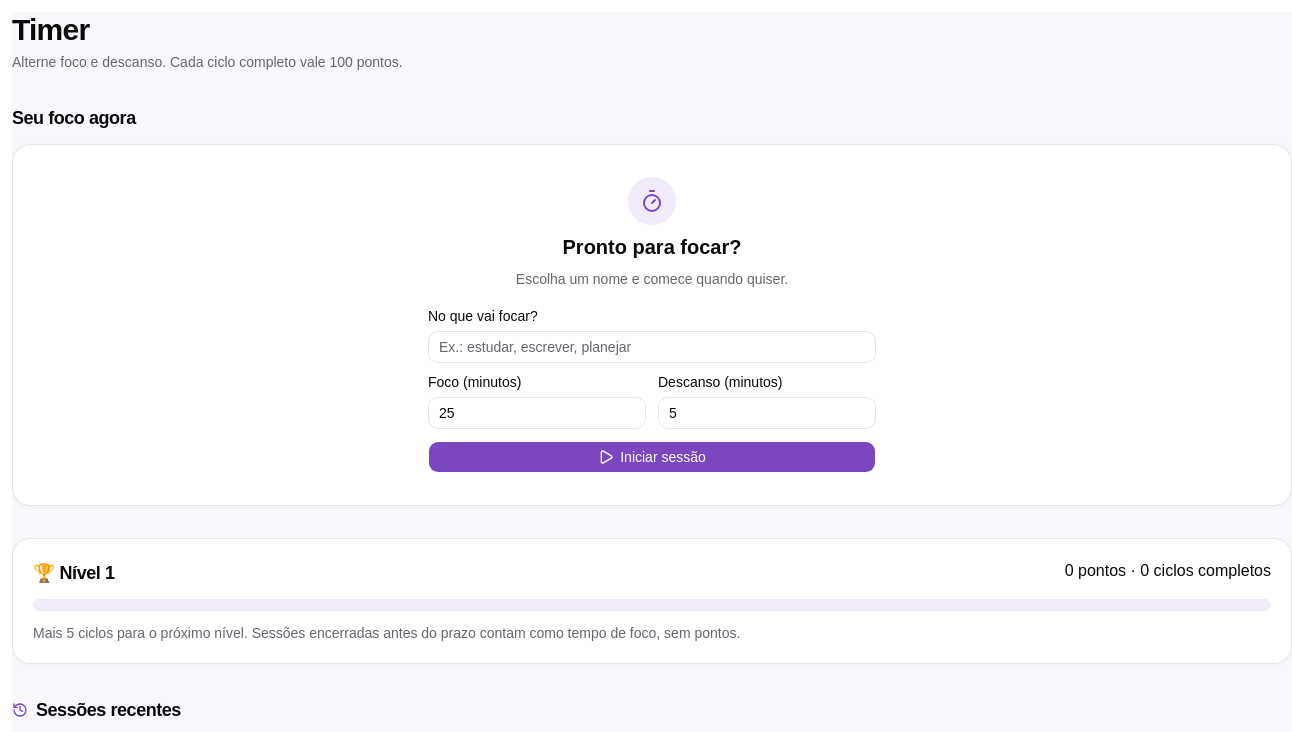
TimerPage › shows an error when the session cannot be started
The image size is (1292, 732).
Click the button "Iniciar sessão". click: [652, 457]
box: x1=428 y1=441 x2=876 y2=473
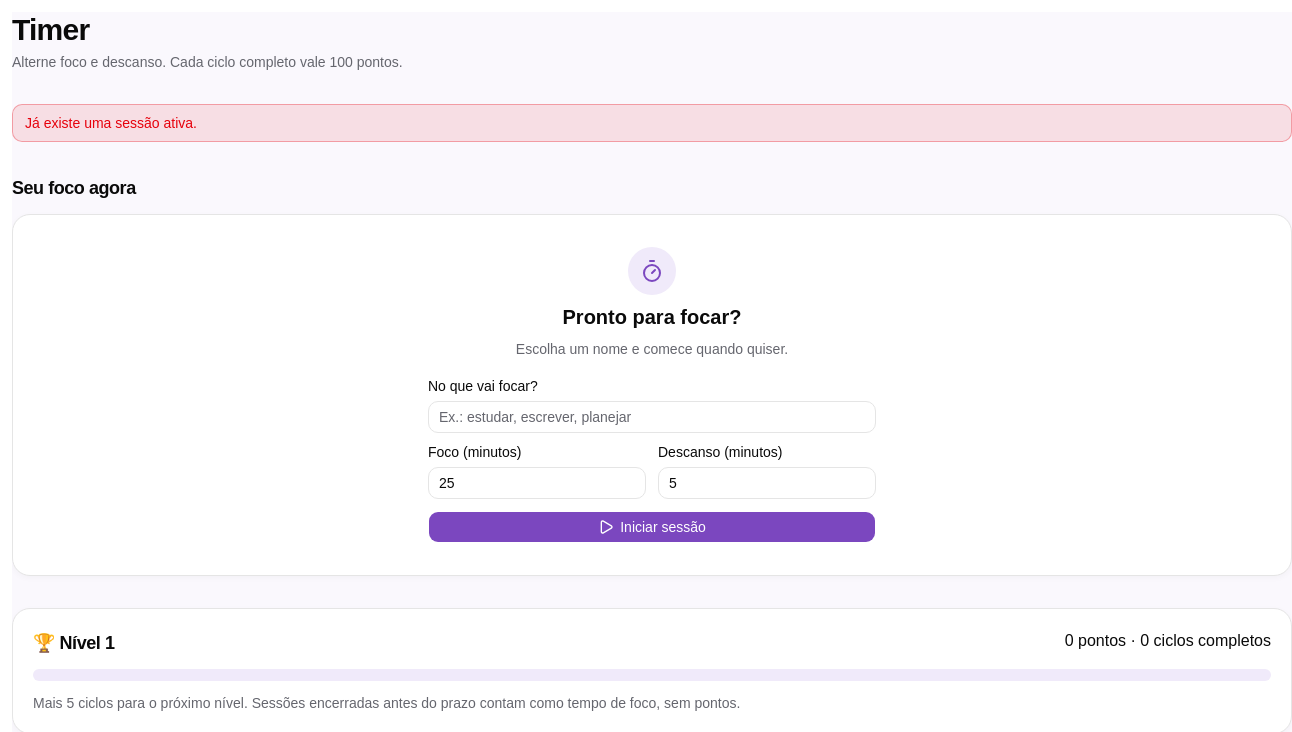
Now the message reads "Já existe uma sessão ativa.", box x1=25 y1=115 x2=197 y2=131
